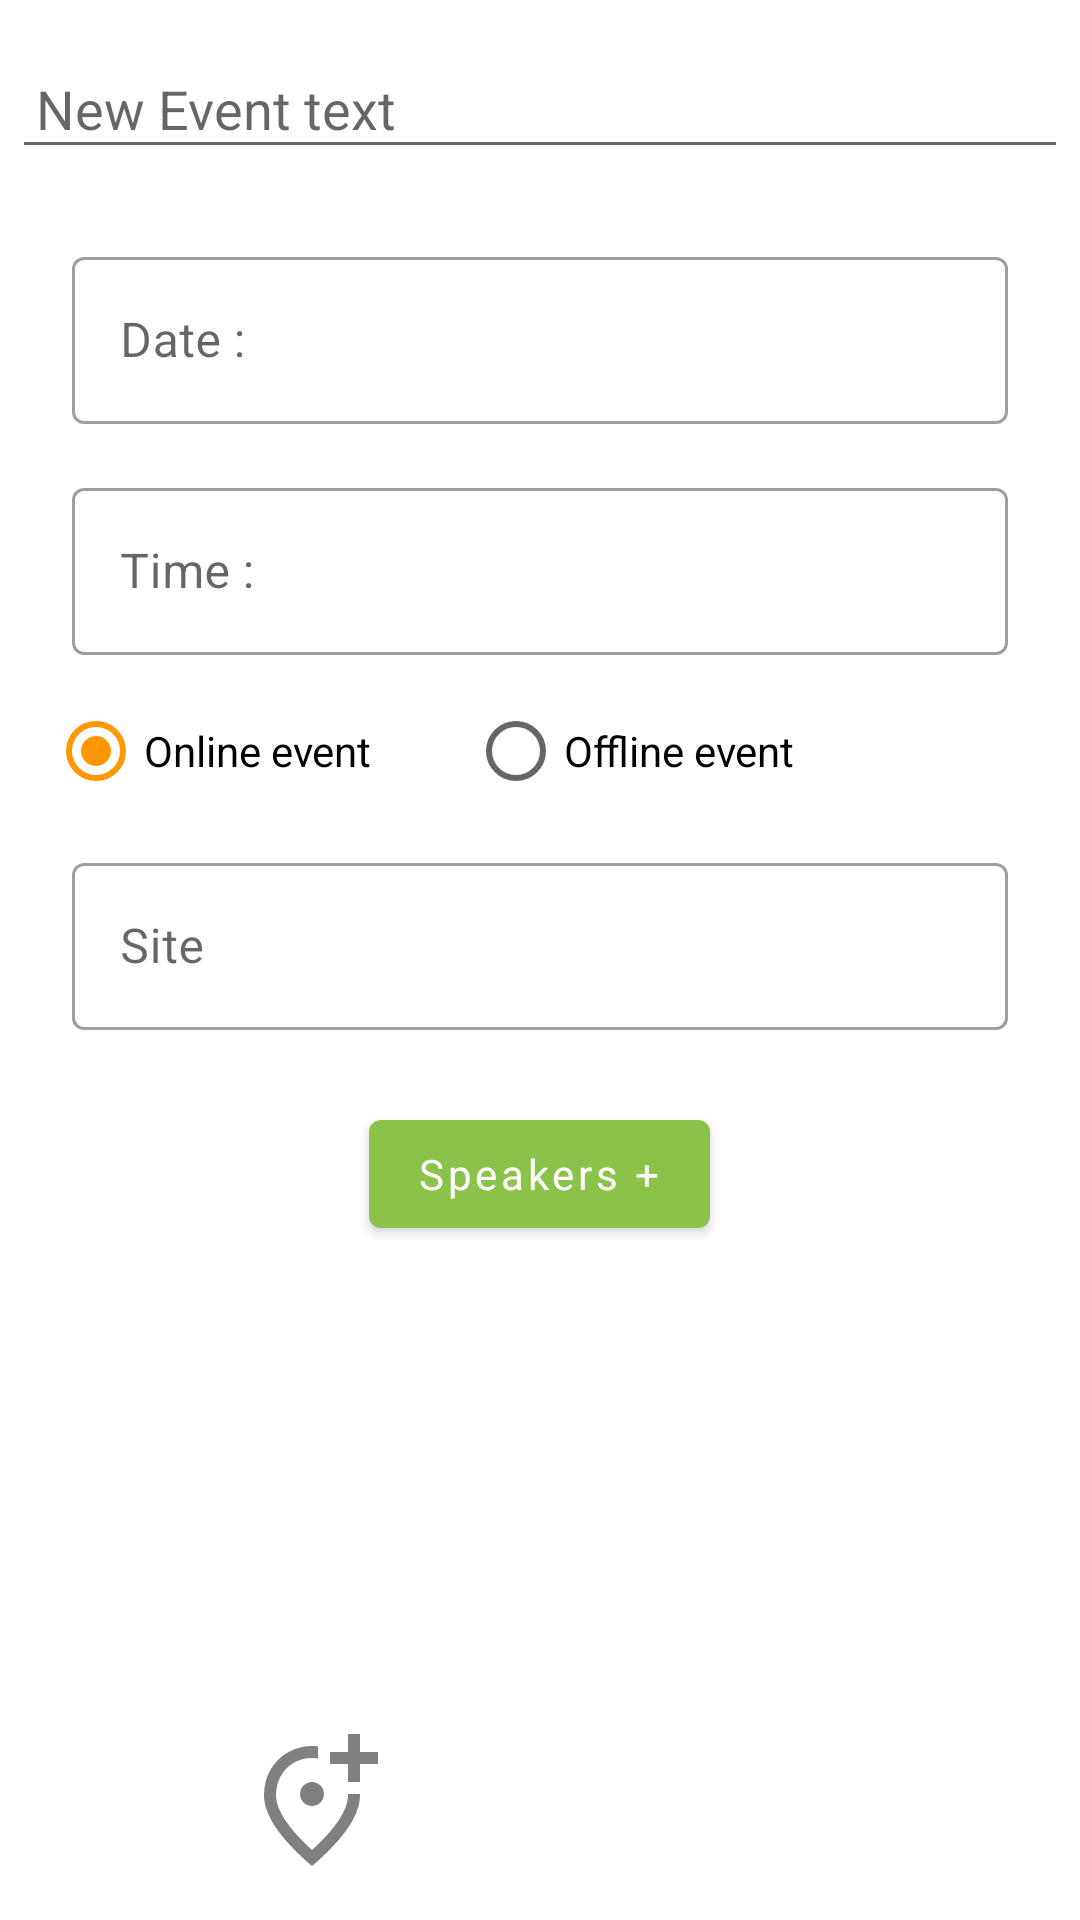

Icon click points for this 1080px x 1920px phone screenshot, format (x=x, y=y):
add location: (x=321, y=1800)
